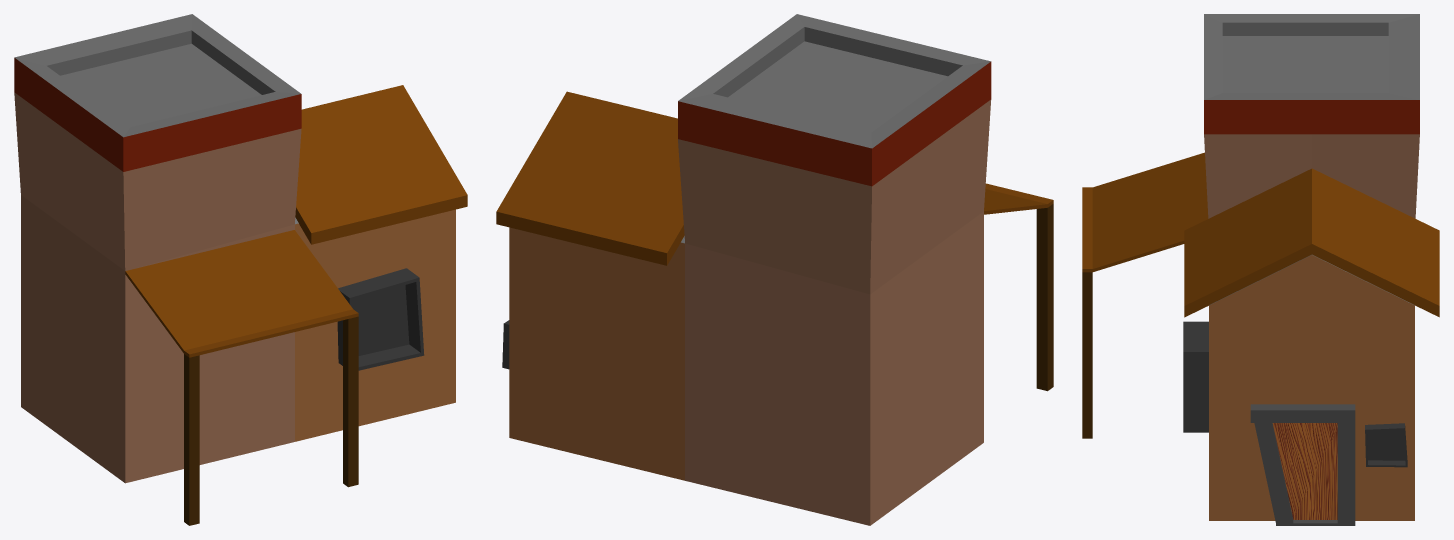
The model's file is house 1.fbx.
The picture shows the model from 3 angles, left to right: view 1: azimuth 30°, elevation 25°; view 2: azimuth 150°, elevation 25°; view 3: azimuth 270°, elevation 25°; orthographic projection. The views are drawn at different scales.
Visible parts, largest first — view 1: Door; view 2: Door; view 3: Door.
Boxes of the visible parts, x1,y1,x2,y2 form: Door: [14, 14, 467, 525]; Door: [496, 14, 1053, 525]; Door: [1082, 14, 1439, 525].
Size of the model in its own units: 150 by 144 by 135.
Materials: 9 (1 with a texture image).
